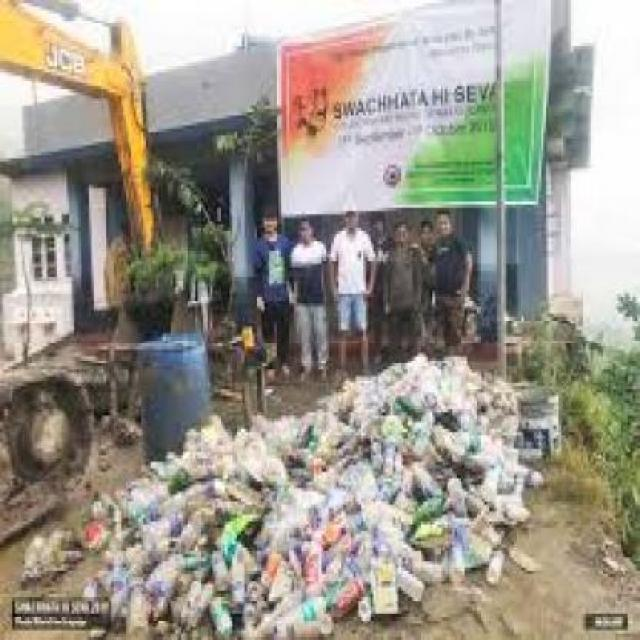garbage: (109, 343, 544, 637), (5, 508, 106, 590)
